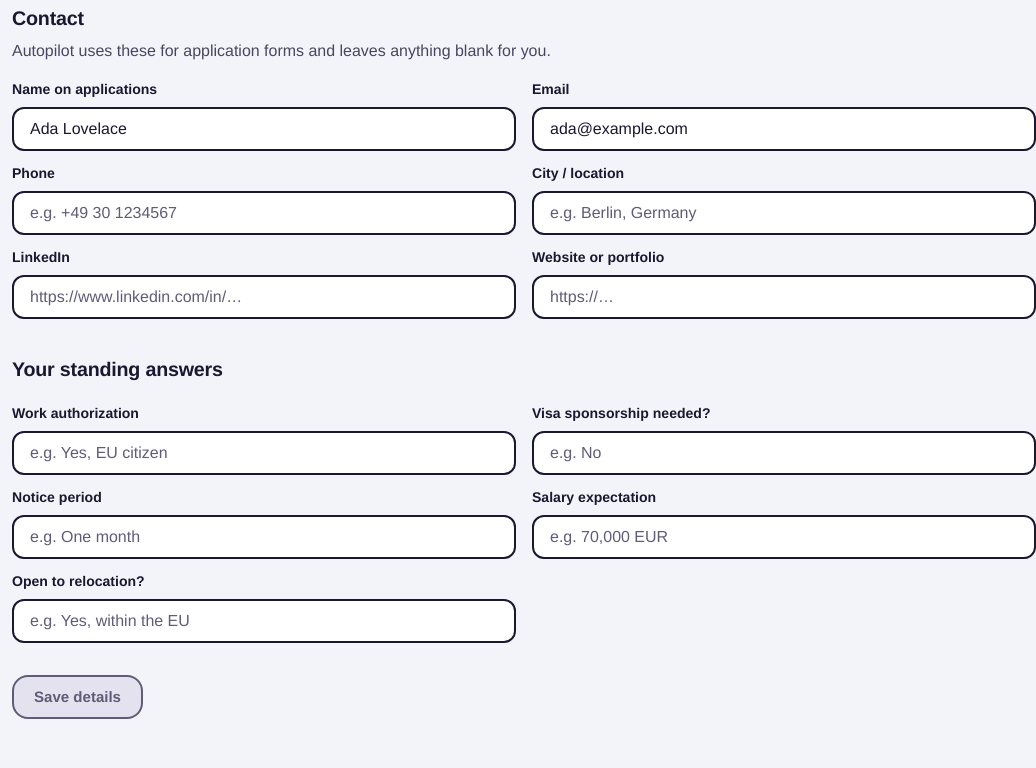
Test: Application details card › keeps Save disabled until something changes
Expected: the button "Save details" is disabled, x1=12 y1=674 x2=143 y2=718
Type "1" into the field labelled "Phone" at (264, 212), box x1=30 y1=192 x2=498 y2=232
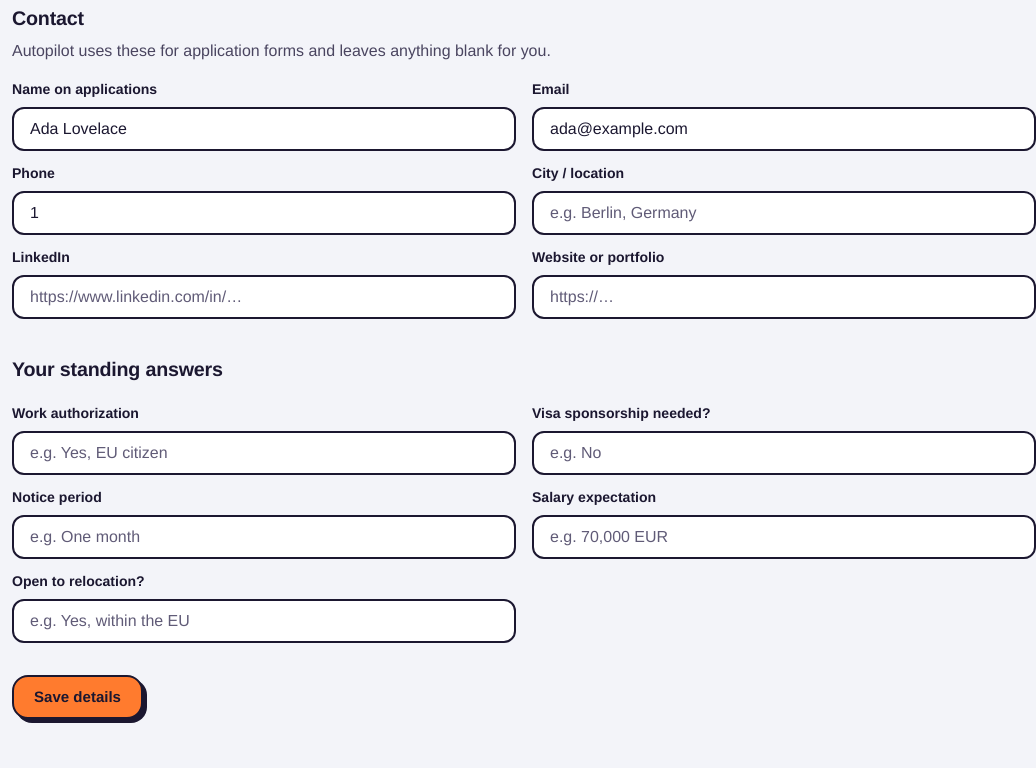
Expected: the button "Save details" is enabled, x1=12 y1=674 x2=143 y2=718
Clear the field labelled "Phone" at (264, 212), box x1=30 y1=192 x2=498 y2=232
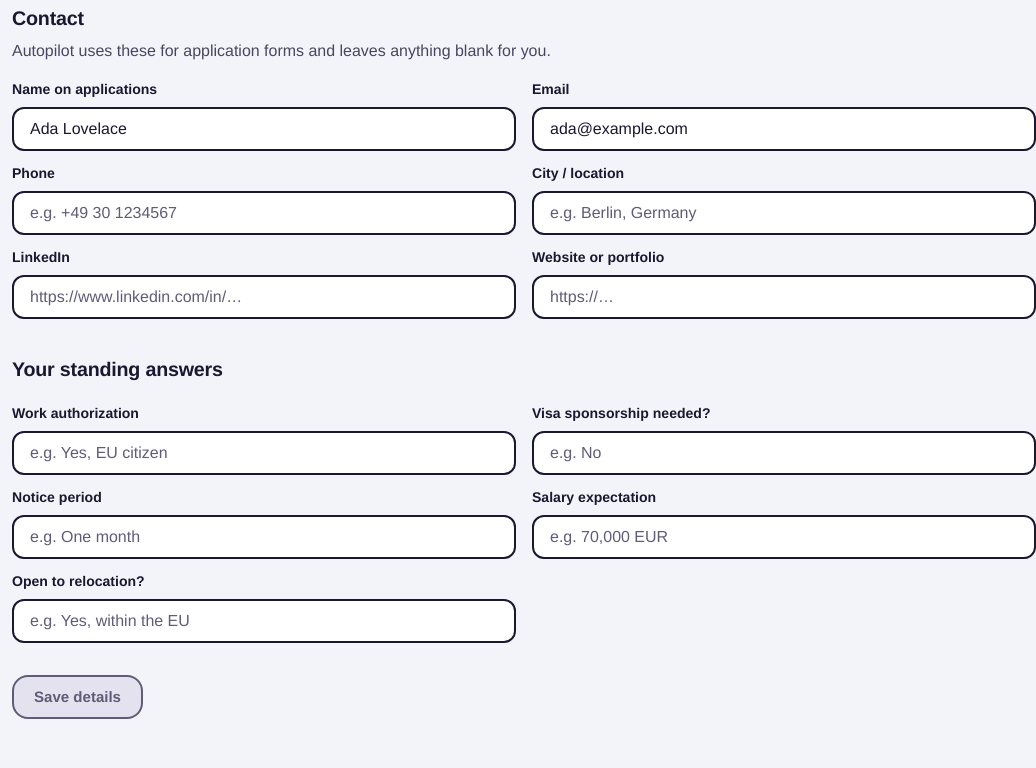
Expected: the button "Save details" is disabled, x1=12 y1=674 x2=143 y2=718
